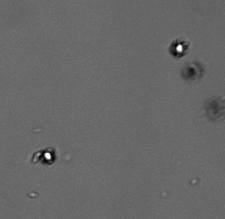Dead Cell: (181, 61, 202, 81), (207, 97, 223, 120)
Living Cell: (169, 38, 188, 57), (39, 148, 57, 165)
